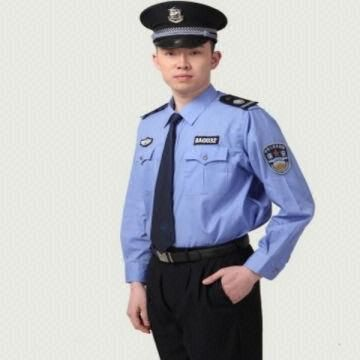uniform: (130, 82, 287, 343)
